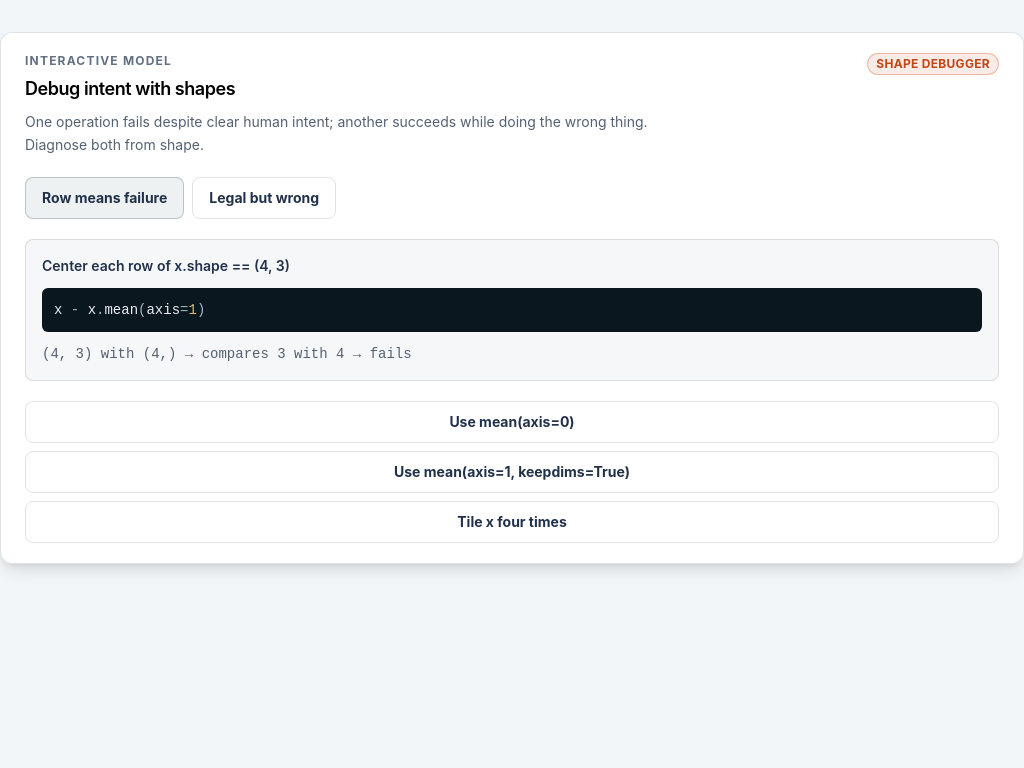
Test: broadcasting interactives › recognizes a legal pairwise broadcast as the wrong grid
This screenshot has width=1024, height=768.
Click the button "Legal but wrong" at (264, 198), box [192, 176, 336, 218]
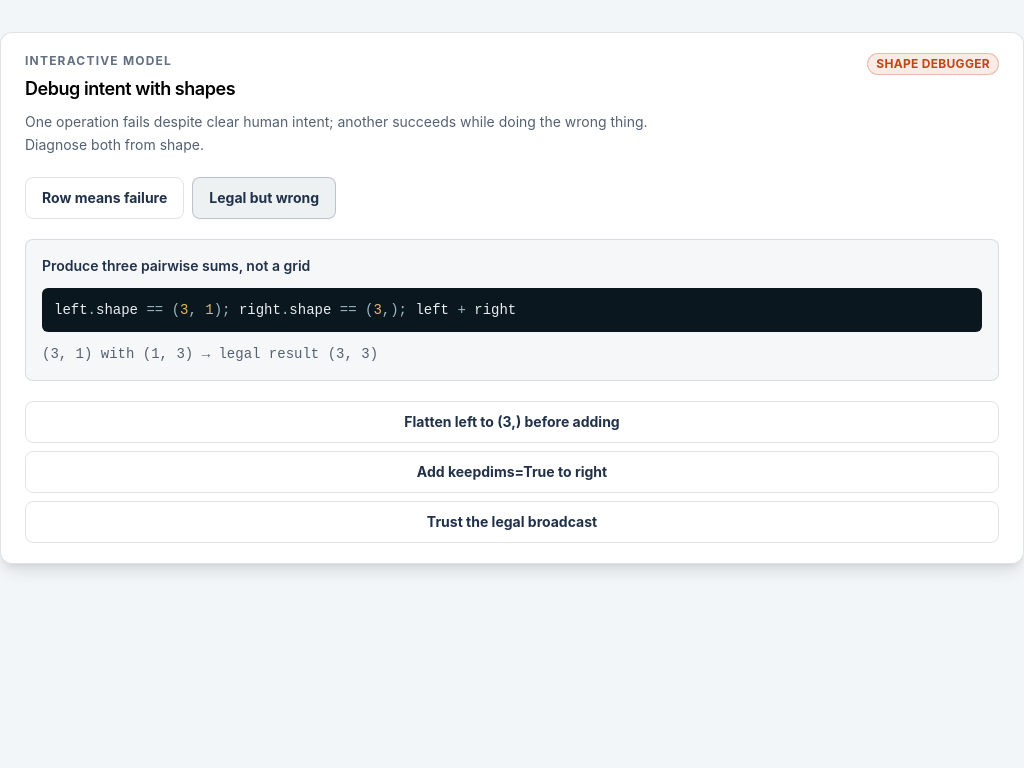
Click the button "Flatten left to (3,) before adding" at (512, 422), box [25, 400, 999, 442]
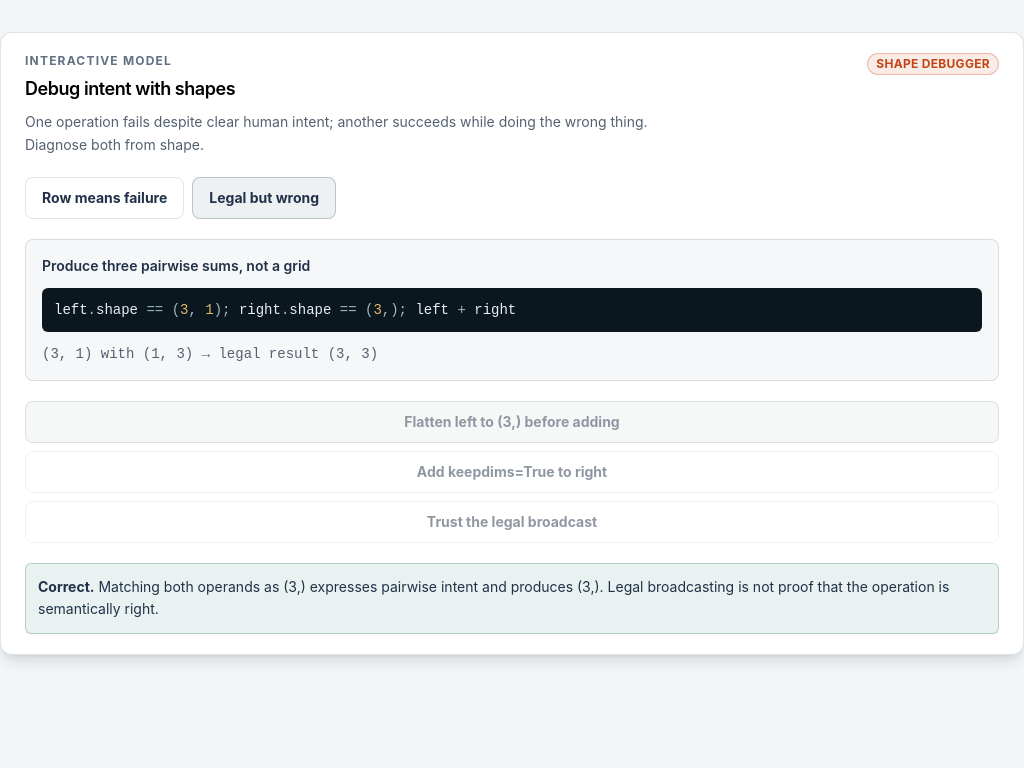
Expected: the message shows "Legal broadcasting is not proof", [38, 578, 949, 617]
